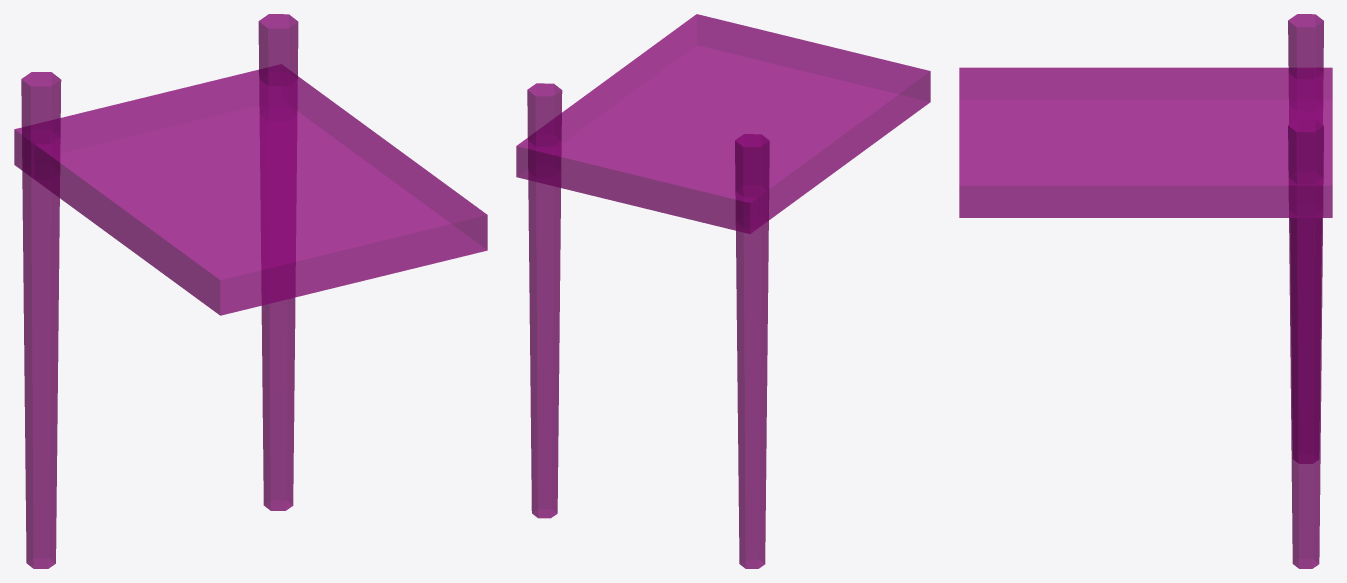
File: SM_Bld_Dock_Wood_End_01_Collision.fbx
3 renders of one model, left to right at view 1: azimuth 30°, elevation 25°; view 2: azimuth 150°, elevation 25°; view 3: azimuth 270°, elevation 25°, orthographic. The views are drawn at different scales.
Parts seen in each view (by area): view 1: SM_Bld_Dock_Wood_End_01_Collision; view 2: SM_Bld_Dock_Wood_End_01_Collision; view 3: SM_Bld_Dock_Wood_End_01_Collision.
Part boxes in pixels (<box>): SM_Bld_Dock_Wood_End_01_Collision: <box>14,14,487,568</box>; SM_Bld_Dock_Wood_End_01_Collision: <box>516,14,930,568</box>; SM_Bld_Dock_Wood_End_01_Collision: <box>959,14,1332,568</box>.
Bounding box in the file's own units: 267 × 457 × 353.
